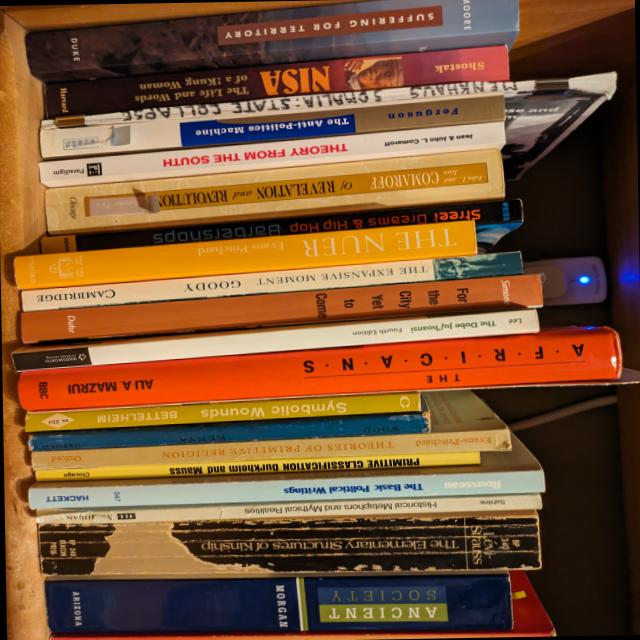book: (38, 71, 618, 187), (15, 324, 622, 415), (23, 0, 520, 85), (25, 433, 544, 514), (41, 147, 505, 236), (27, 387, 510, 470), (18, 272, 542, 345), (37, 509, 540, 583), (41, 44, 509, 118), (10, 307, 538, 372), (12, 219, 477, 292), (37, 119, 505, 190), (37, 91, 505, 160), (19, 250, 522, 312), (44, 572, 511, 637), (40, 199, 522, 260), (27, 400, 430, 452), (34, 492, 540, 527), (23, 390, 420, 433), (33, 450, 480, 482), (339, 428, 341, 430), (129, 313, 130, 315)
